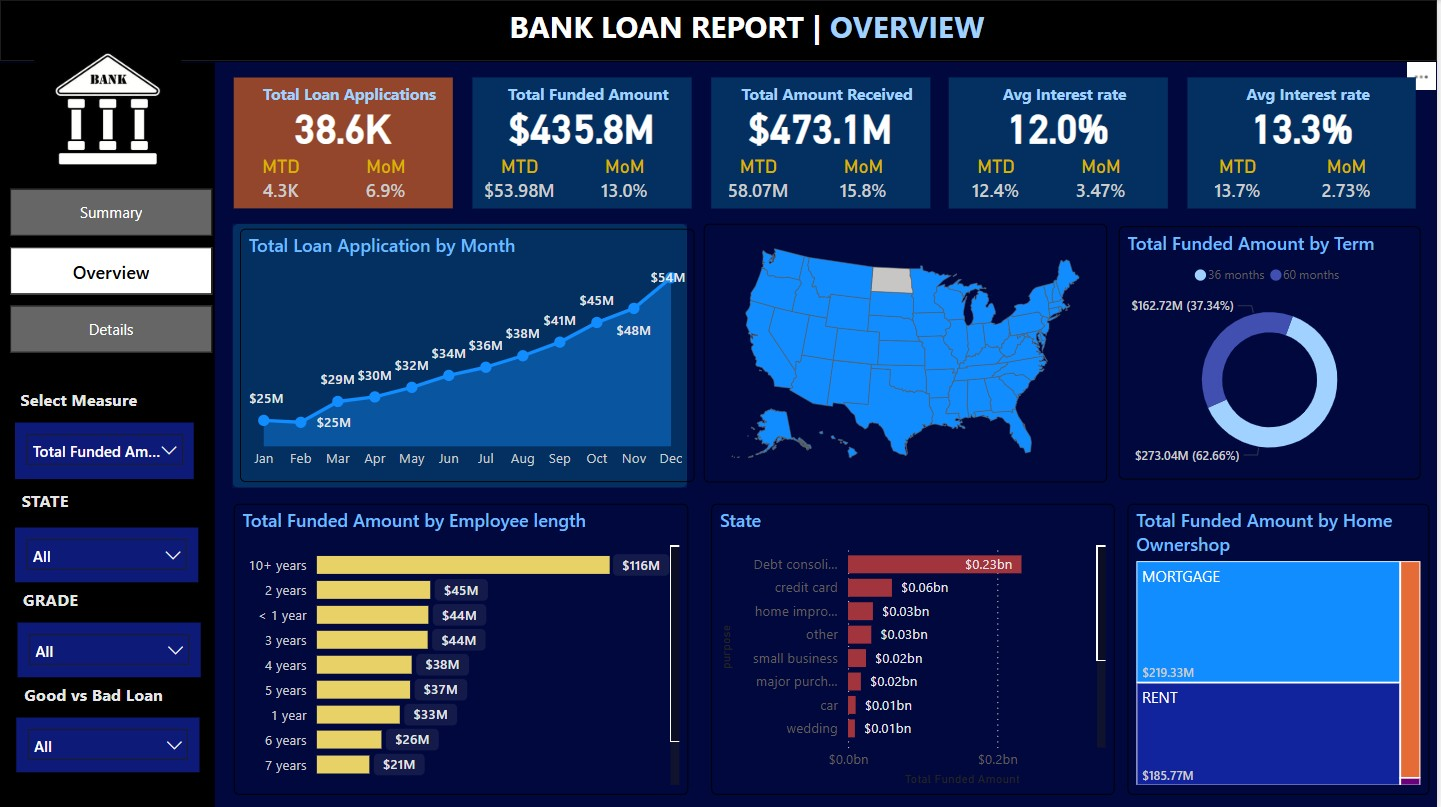

The page's visual inventory and layout, read from the dashboard file:
{"tool":"powerbi","page":{"name":"Overview","canvas":[1280,720],"ordinal":1},"visuals":[{"type":"shape","box":[207.4,198.8,405,235],"z":0},{"type":"shape","box":[0,0,1279.8,55],"z":1000},{"type":"shape","box":[0,55.2,191.4,665],"z":2000},{"type":"textbox","box":[449.1,0,457.7,60.1],"z":3000},{"type":"shape","box":[208.6,68.7,195.1,116.6],"z":3000,"group":"g1"},{"type":"shape","box":[420.9,68.7,195.1,116.6],"z":3000,"group":"g2"},{"type":"shape","box":[633.1,68.7,195.1,116.6],"z":3000,"group":"g3"},{"type":"shape","box":[845.4,68.7,195.1,116.6],"z":3000,"group":"g4"},{"type":"shape","box":[1057.7,68.7,203.2,116.6],"z":3000,"group":"g5"},{"type":"group","id":"g1","title":"Group 1","box":[208.6,68.7,206.1,116.6],"z":4000},{"type":"card","fields":{"Values":["Bank Loan.Total Loan Application"]},"box":[213.5,68.7,185.3,85.9],"z":4000,"group":"g1"},{"type":"card","fields":{"Values":["Bank Loan.Total Funded Amount"]},"box":[425.8,68.7,185.3,85.9],"z":4000,"group":"g2"},{"type":"card","fields":{"Values":["Bank Loan.Total Amount Received"]},"box":[638,68.7,185.3,85.9],"z":4000,"group":"g3"},{"type":"card","fields":{"Values":["Bank Loan.Average Interest Rate"]},"box":[850.3,68.7,185.3,85.9],"z":4000,"group":"g4"},{"type":"card","fields":{"Values":["Bank Loan.Avg DTI"]},"box":[1062.8,68.7,193,85.9],"z":4000,"group":"g5"},{"type":"textbox","box":[208.6,68.7,206.1,38],"z":5000,"group":"g1"},{"type":"group","id":"g2","title":"Group 1","box":[420.9,68.7,206.1,116.6],"z":5000},{"type":"textbox","box":[420.9,68.7,206.1,38],"z":5000,"group":"g2"},{"type":"textbox","box":[633.1,68.7,206.1,38],"z":5000,"group":"g3"},{"type":"textbox","box":[845.4,68.7,206.1,38],"z":5000,"group":"g4"},{"type":"textbox","box":[1057.7,68.7,214.7,38],"z":5000,"group":"g5"},{"type":"group","id":"g3","title":"Group 1","box":[633.1,68.7,206.1,116.6],"z":6000},{"type":"card","title":"MTD","fields":{"Values":["Bank Loan.MTD Loan Applications"]},"box":[213.5,137.4,74.8,47.9],"z":6000,"group":"g1"},{"type":"card","title":"MTD","fields":{"Values":["Bank Loan.MTD Funded Amount"]},"box":[425.8,137.4,74.8,47.9],"z":6000,"group":"g2"},{"type":"card","title":"MTD","fields":{"Values":["Bank Loan.MTD Total Amount Received"]},"box":[638,137.4,74.8,47.9],"z":6000,"group":"g3"},{"type":"card","title":"MTD","fields":{"Values":["Bank Loan.MTD Avg Int Rate"]},"box":[850.3,137.4,74.8,47.9],"z":6000,"group":"g4"},{"type":"card","title":"MTD","fields":{"Values":["Bank Loan.MTD Avg DTI"]},"box":[1062.8,137.4,78,47.9],"z":6000,"group":"g5"},{"type":"group","id":"g4","title":"Group 1","box":[845.4,68.7,206.1,116.6],"z":7000},{"type":"card","title":"MoM","fields":{"Values":["Bank Loan.MOM Loan Application"]},"box":[306.8,137.4,74.8,47.9],"z":7001,"group":"g1"},{"type":"card","title":"MoM","fields":{"Values":["Bank Loan.MOM Total Funded Amount"]},"box":[519.1,137.4,74.8,47.9],"z":7001,"group":"g2"},{"type":"card","title":"MoM","fields":{"Values":["Bank Loan.MOM Total Amount Received"]},"box":[731.3,137.4,74.8,47.9],"z":7001,"group":"g3"},{"type":"card","title":"MoM","fields":{"Values":["Bank Loan.MOM Avg Int Rate"]},"box":[943.6,137.4,74.8,47.9],"z":7001,"group":"g4"},{"type":"card","title":"MoM","fields":{"Values":["Bank Loan.MOM DTI Rate"]},"box":[1160,137.4,78,47.9],"z":7001,"group":"g5"},{"type":"group","id":"g5","title":"Group 1","box":[1057.7,68.7,214.7,116.6],"z":8000},{"type":"slicer","fields":{"Values":["Bank Loan.address_state"]},"box":[13.5,469.9,163.2,49.1],"z":9000},{"type":"textbox","box":[14.7,430.7,63.8,35.6],"z":10000},{"type":"slicer","fields":{"Values":["Bank Loan.grade"]},"box":[16,554.6,163.2,49.1],"z":11000},{"type":"textbox","box":[16,519,82.2,35.6],"z":12000},{"type":"textbox","box":[17.2,603.7,143.6,35.6],"z":13000},{"type":"slicer","fields":{"Values":["Bank Loan.Good vs Bad Loan"]},"box":[14.7,639.3,163.2,49.1],"z":14000},{"type":"areaChart","title":"Total Loan Application by Month","fields":{"Y":["Bank Loan.Total Funded Amount"],"Category":["Date Table.Month_Name"]},"box":[213.5,203.7,404.9,225.8],"z":15000},{"type":"slicer","fields":{"Values":["Select Measure.Select Measure"]},"box":[13.5,376.7,159.5,50.3],"z":16000},{"type":"textbox","box":[13.5,341.1,123.9,35.6],"z":17000},{"type":"shapeMap","title":"State","fields":{"Category":["Bank Loan.address_state"]},"box":[627,198.8,359.5,230.7],"z":18000},{"type":"donutChart","fields":{"Y":["Bank Loan.Total Funded Amount"],"Category":["Bank Loan.term"]},"box":[996.3,201.2,268.7,225.8],"z":19000},{"type":"barChart","fields":{"Y":["Bank Loan.Total Funded Amount"],"Category":["Bank Loan.emp_length"]},"box":[208.6,449.1,404.9,258.9],"z":20000},{"type":"barChart","title":"State","fields":{"Y":["Bank Loan.Total Funded Amount"],"Category":["Bank Loan.purpose"]},"box":[633.1,449.1,359.5,258.9],"z":21000},{"type":"treemap","fields":{"Values":["Bank Loan.Total Funded Amount"],"Group":["Bank Loan.home_ownership"]},"box":[1003.7,449.1,268.7,258.9],"z":22000},{"type":"pageNavigator","box":[8.6,168.1,180.4,148.5],"z":23000},{"type":"image","box":[0,27,191.4,141.1],"z":24000}]}

Visuals, with their boxes in screenshot pixels (x1, y1, x2, y2), scaled from the page's 1280x720 canvas onto the 1441x807 screenshot:
shape: <region>233, 223, 689, 486</region>
shape: <region>0, 0, 1440, 62</region>
shape: <region>0, 62, 215, 806</region>
textbox: <region>506, 0, 1021, 67</region>
shape: <region>235, 77, 454, 208</region>
shape: <region>474, 77, 693, 208</region>
shape: <region>713, 77, 932, 208</region>
shape: <region>952, 77, 1171, 208</region>
shape: <region>1191, 77, 1419, 208</region>
"Group 1" group: <region>235, 77, 467, 208</region>
card - Bank Loan.Total Loan Application: <region>240, 77, 449, 173</region>
card - Bank Loan.Total Funded Amount: <region>479, 77, 688, 173</region>
card - Bank Loan.Total Amount Received: <region>718, 77, 927, 173</region>
card - Bank Loan.Average Interest Rate: <region>957, 77, 1166, 173</region>
card - Bank Loan.Avg DTI: <region>1196, 77, 1414, 173</region>
textbox: <region>235, 77, 467, 120</region>
"Group 1" group: <region>474, 77, 706, 208</region>
textbox: <region>474, 77, 706, 120</region>
textbox: <region>713, 77, 945, 120</region>
textbox: <region>952, 77, 1184, 120</region>
textbox: <region>1191, 77, 1432, 120</region>
"Group 1" group: <region>713, 77, 945, 208</region>
"MTD" card: <region>240, 154, 325, 208</region>
"MTD" card: <region>479, 154, 564, 208</region>
"MTD" card: <region>718, 154, 802, 208</region>
"MTD" card: <region>957, 154, 1041, 208</region>
"MTD" card: <region>1196, 154, 1284, 208</region>
"Group 1" group: <region>952, 77, 1184, 208</region>
"MoM" card: <region>345, 154, 430, 208</region>
"MoM" card: <region>584, 154, 669, 208</region>
"MoM" card: <region>823, 154, 907, 208</region>
"MoM" card: <region>1062, 154, 1146, 208</region>
"MoM" card: <region>1306, 154, 1394, 208</region>
"Group 1" group: <region>1191, 77, 1432, 208</region>
slicer - Bank Loan.address_state: <region>15, 527, 199, 582</region>
textbox: <region>17, 483, 88, 523</region>
slicer - Bank Loan.grade: <region>18, 622, 202, 677</region>
textbox: <region>18, 582, 111, 622</region>
textbox: <region>19, 677, 181, 717</region>
slicer - Bank Loan.Good vs Bad Loan: <region>17, 717, 200, 772</region>
"Total Loan Application by Month" areaChart: <region>240, 228, 696, 481</region>
slicer - Select Measure.Select Measure: <region>15, 422, 195, 479</region>
textbox: <region>15, 382, 155, 422</region>
"State" shapeMap: <region>706, 223, 1111, 481</region>
donutChart - Bank Loan.Total Funded Amount x Bank Loan.term: <region>1122, 226, 1424, 479</region>
barChart - Bank Loan.Total Funded Amount x Bank Loan.emp_length: <region>235, 503, 691, 794</region>
"State" barChart: <region>713, 503, 1117, 794</region>
treemap - Bank Loan.Total Funded Amount x Bank Loan.home_ownership: <region>1130, 503, 1432, 794</region>
pageNavigator: <region>10, 188, 213, 355</region>
image: <region>0, 30, 215, 188</region>
